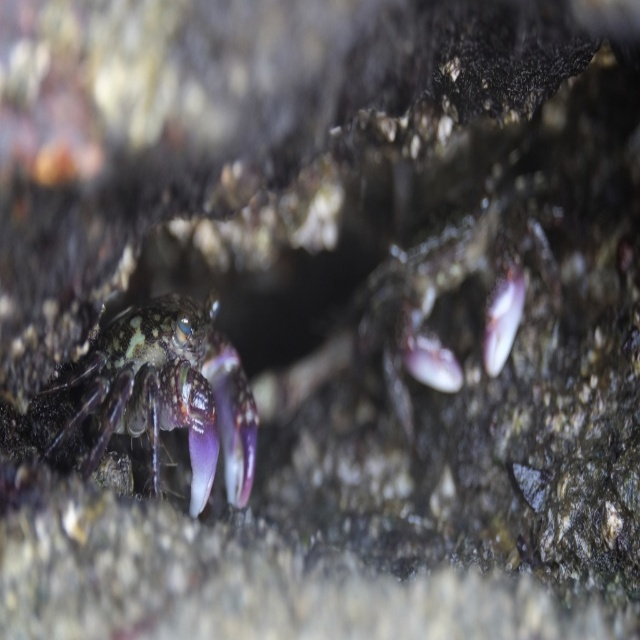Crab: (0, 0, 640, 603)
